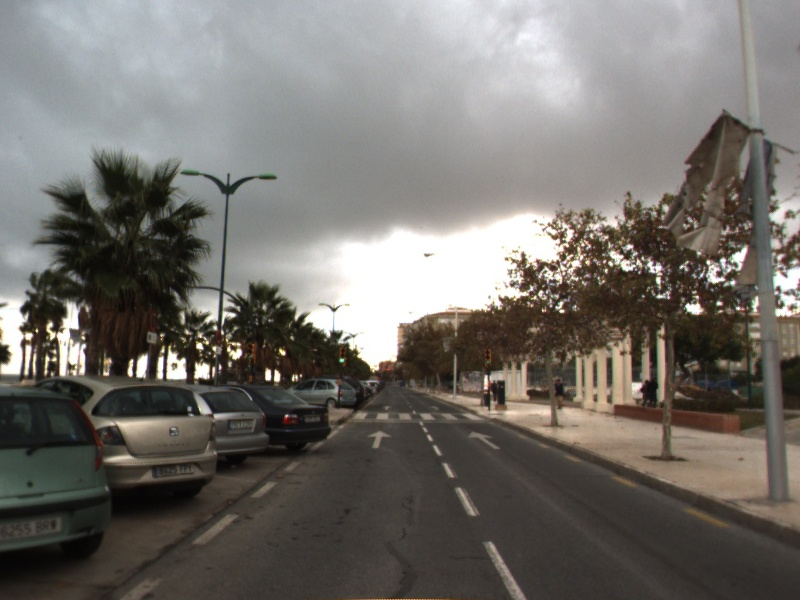STRAIGHT: (466, 430, 502, 451), (365, 428, 393, 450)
